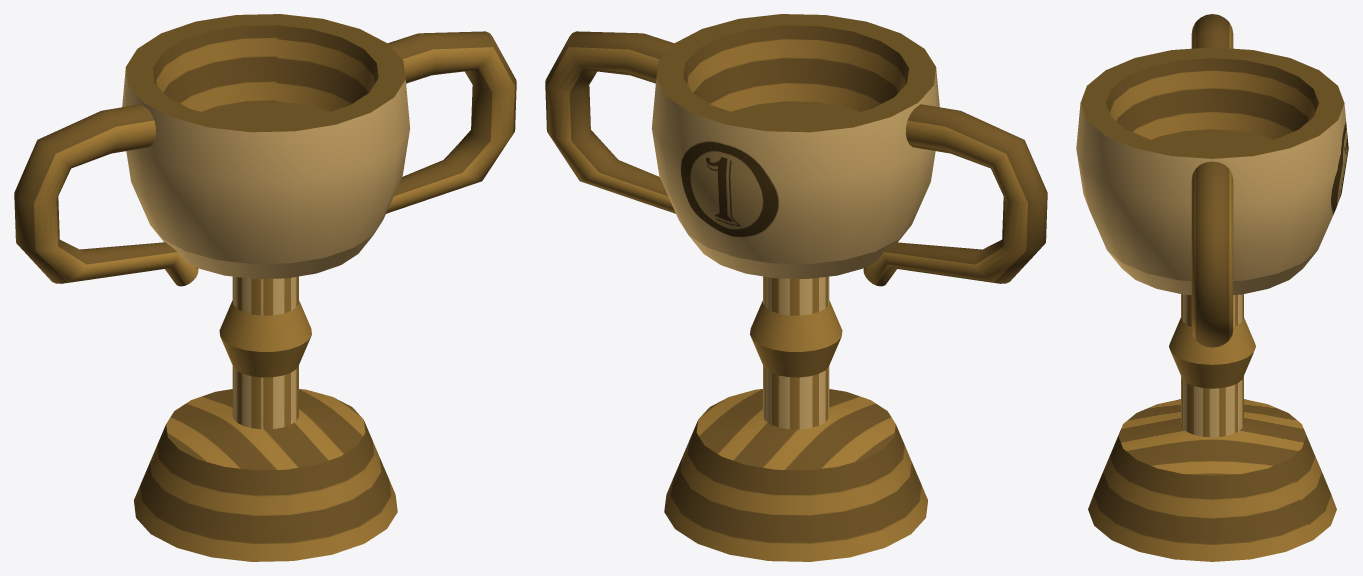
Rendered from beker.fbx.
3 views of the same model, side by side, from view 1: azimuth 30°, elevation 25°; view 2: azimuth 150°, elevation 25°; view 3: azimuth 270°, elevation 25° (orthographic). The views are drawn at different scales.
Visible parts, largest first — view 1: beker; view 2: beker; view 3: beker.
Boxes of the visible parts, x1=… form: beker: x1=14, y1=14, x2=516, y2=561; beker: x1=545, y1=14, x2=1047, y2=561; beker: x1=1076, y1=14, x2=1348, y2=561.
Size of the model in its own units: 0.0715 by 0.0595 by 0.0362.
Materials: 1 (1 with a texture image).
